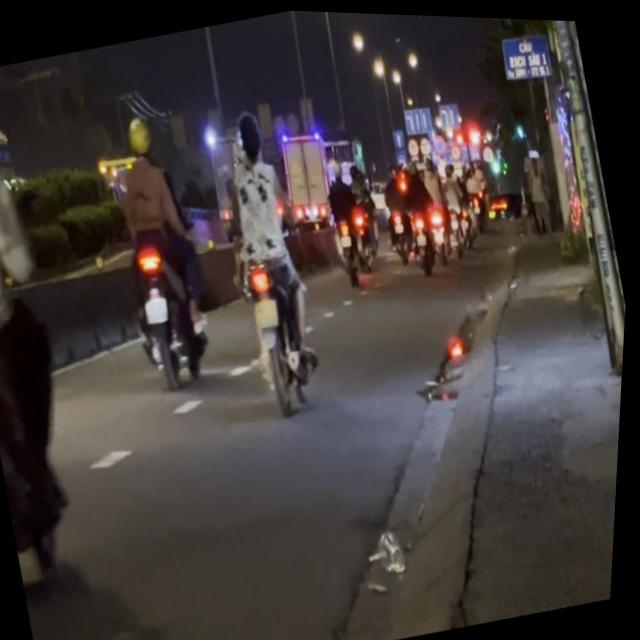helmet: (121, 112, 154, 159)
licenseplate: (0, 63, 128, 610), (194, 96, 343, 417), (88, 105, 234, 392)
motorcyclist: (228, 104, 267, 162)
nohelmet: (252, 293, 283, 327), (144, 292, 172, 322)
